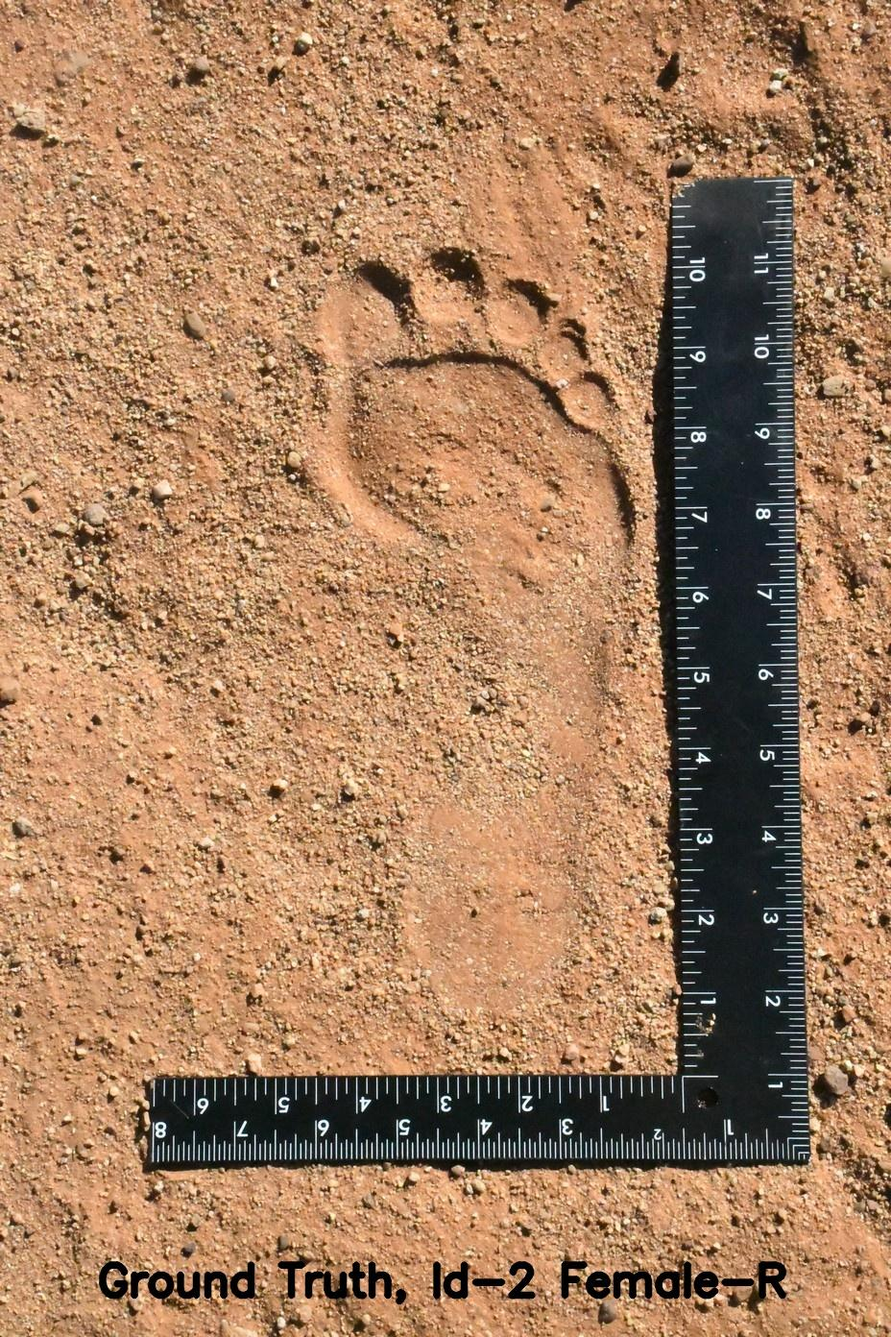human_footprint: (247, 199, 653, 1044)
